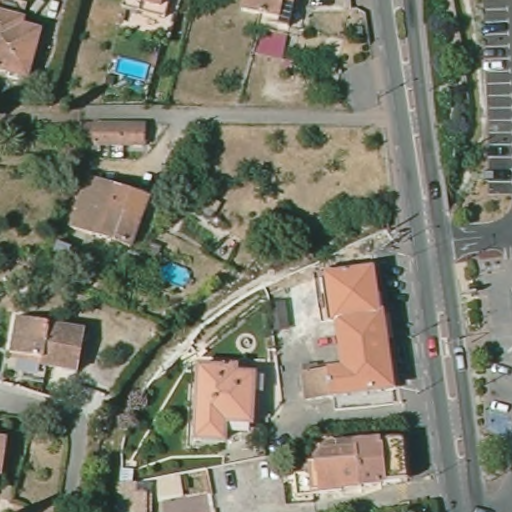pool: (102, 51, 152, 88), (145, 254, 193, 288)
